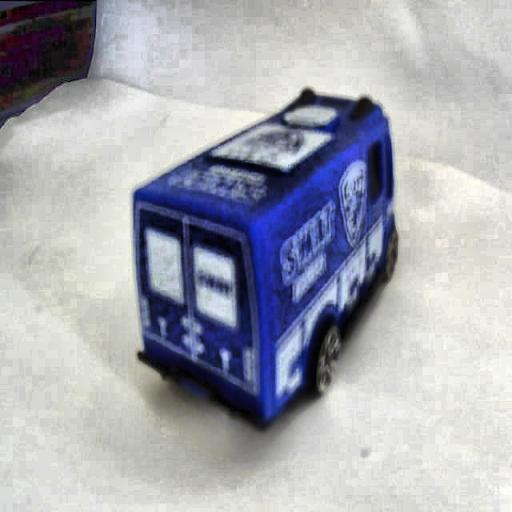police car: (134, 84, 399, 429)
